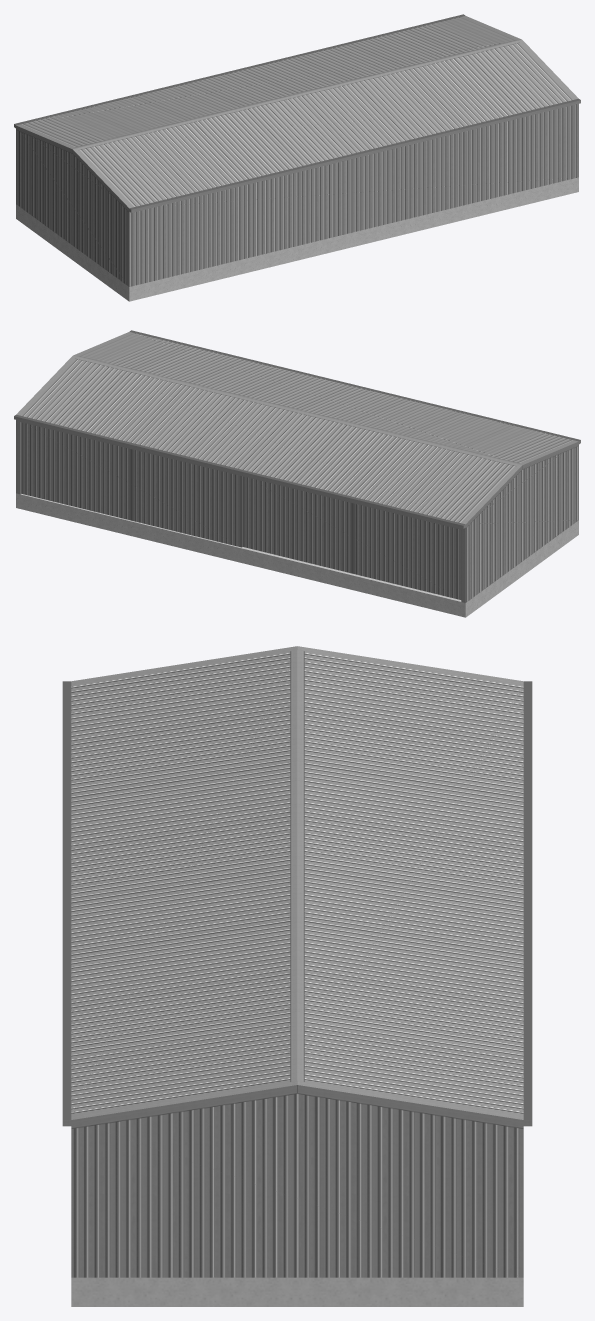
The model's file is hangar-side-door-26x11x4-grey-cbj_LOD00.gltf.
3 views of the same model, one above another, from view 1: azimuth 30°, elevation 25°; view 2: azimuth 150°, elevation 25°; view 3: azimuth 270°, elevation 25° (orthographic). The views are drawn at different scales.
Visible parts, largest first — view 1: hangar-side-d00; view 2: hangar-side-d00; view 3: hangar-side-d00.
Part boxes in pixels (x1,y1,x2,y2): hangar-side-d00: [14, 14, 580, 301]; hangar-side-d00: [14, 330, 580, 617]; hangar-side-d00: [62, 646, 532, 1306].
Bounding box in the file's own units: 25.7 × 6.06 × 11.62.
